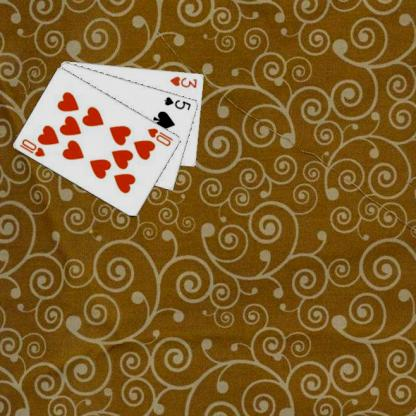10H: (17, 136, 47, 158), (145, 125, 174, 147)
3H: (168, 73, 198, 89)
5S: (162, 94, 192, 111)
